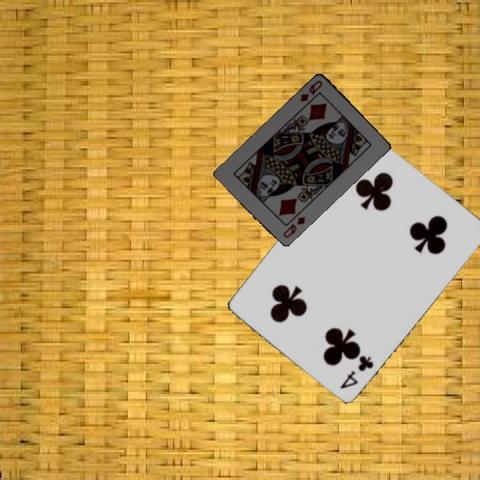4c: (337, 351, 375, 390)
Qd: (297, 76, 324, 103), (280, 214, 307, 240)
